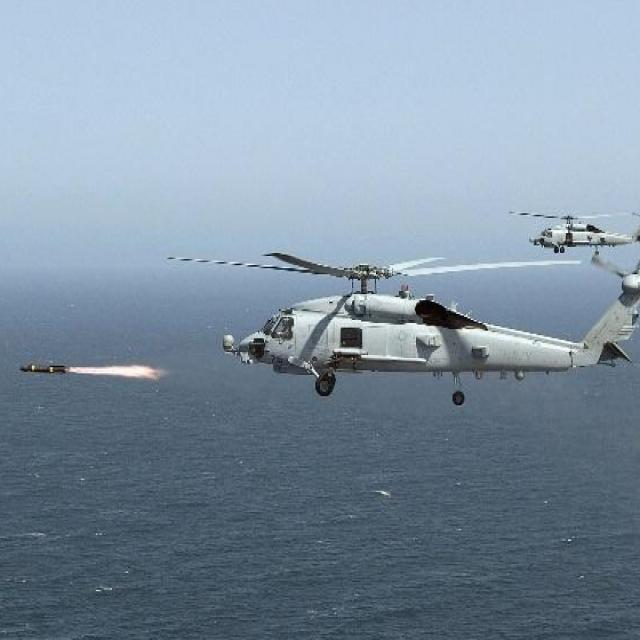helicopter: (132, 229, 609, 411), (505, 175, 640, 269)
